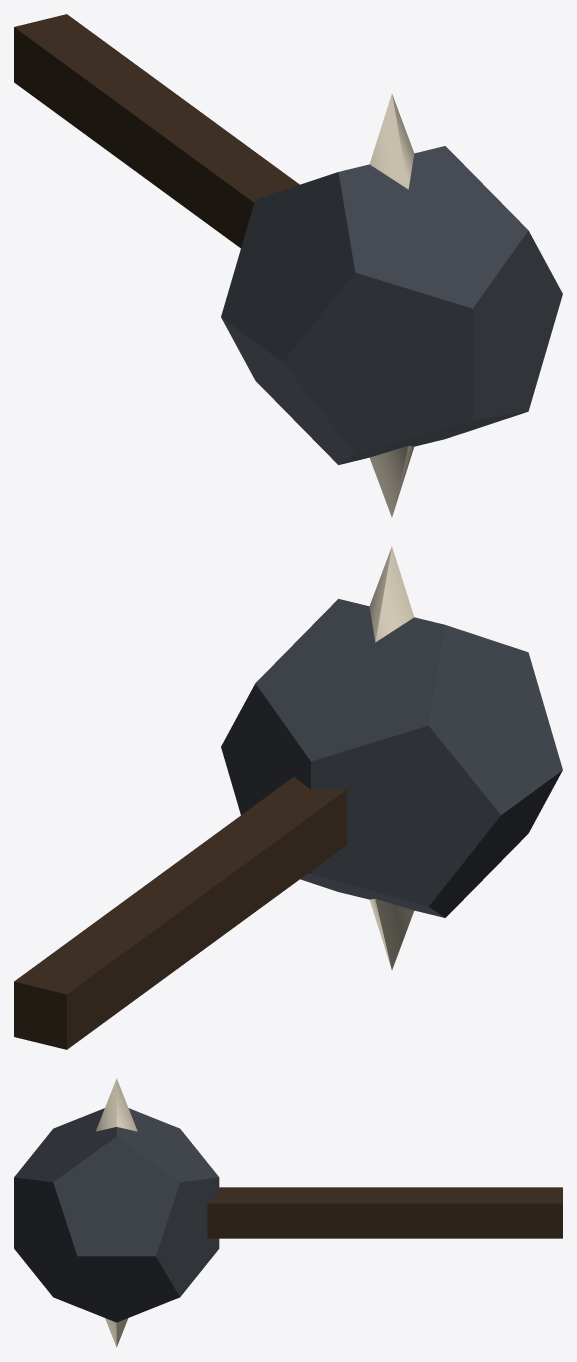
File: BO_SM_EnemyWeapon_Mace_v001.glb
3 renders of one model, top to bottom at view 1: azimuth 30°, elevation 25°; view 2: azimuth 150°, elevation 25°; view 3: azimuth 270°, elevation 25°, orthographic. The views are drawn at different scales.
Visible parts, largest first — view 1: body_001, body_000, body_002, body_003; view 2: body_001, body_000, body_002, body_003; view 3: body_001, body_000, body_002.
Part boxes in pixels (x1,y1,x2,y2): body_001: (221, 146, 562, 464); body_000: (14, 14, 299, 248); body_002: (369, 94, 414, 189); body_003: (370, 445, 413, 517); body_001: (221, 599, 562, 917); body_000: (14, 777, 346, 1049); body_002: (369, 546, 413, 642); body_003: (369, 898, 413, 969); body_001: (14, 1108, 219, 1322); body_000: (207, 1187, 562, 1238); body_002: (96, 1078, 137, 1131).
Bounding box in the file's own units: 0.3176 × 0.46 × 0.8488.
